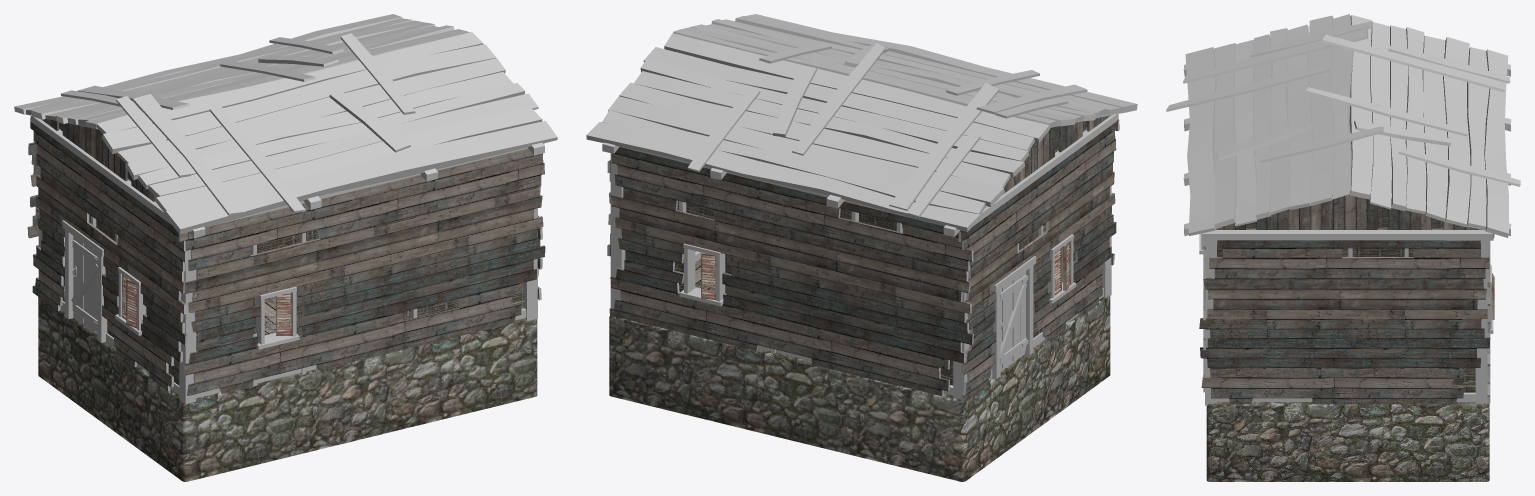
File: House8.fbx
3 renders of one model, left to right at view 1: azimuth 30°, elevation 25°; view 2: azimuth 150°, elevation 25°; view 3: azimuth 270°, elevation 25°, orthographic. The views are drawn at different scales.
Visible parts, largest first — view 1: Base, Roof, Floor, Doors; view 2: Base, Roof, Floor, Doors; view 3: Roof, Base, Floor.
Boxes of the visible parts, <box> form: Base: <box>27,118,545,404</box>; Roof: <box>14,14,557,238</box>; Floor: <box>38,296,537,481</box>; Doors: <box>71,236,97,332</box>; Base: <box>607,119,1119,403</box>; Roof: <box>586,14,1137,236</box>; Floor: <box>609,259,1110,481</box>; Doors: <box>1000,271,1028,368</box>; Roof: <box>1166,14,1520,240</box>; Base: <box>1199,181,1494,405</box>; Floor: <box>1206,402,1489,481</box>.
Size of the model in its own units: 10.7 by 8.53 by 8.81.
